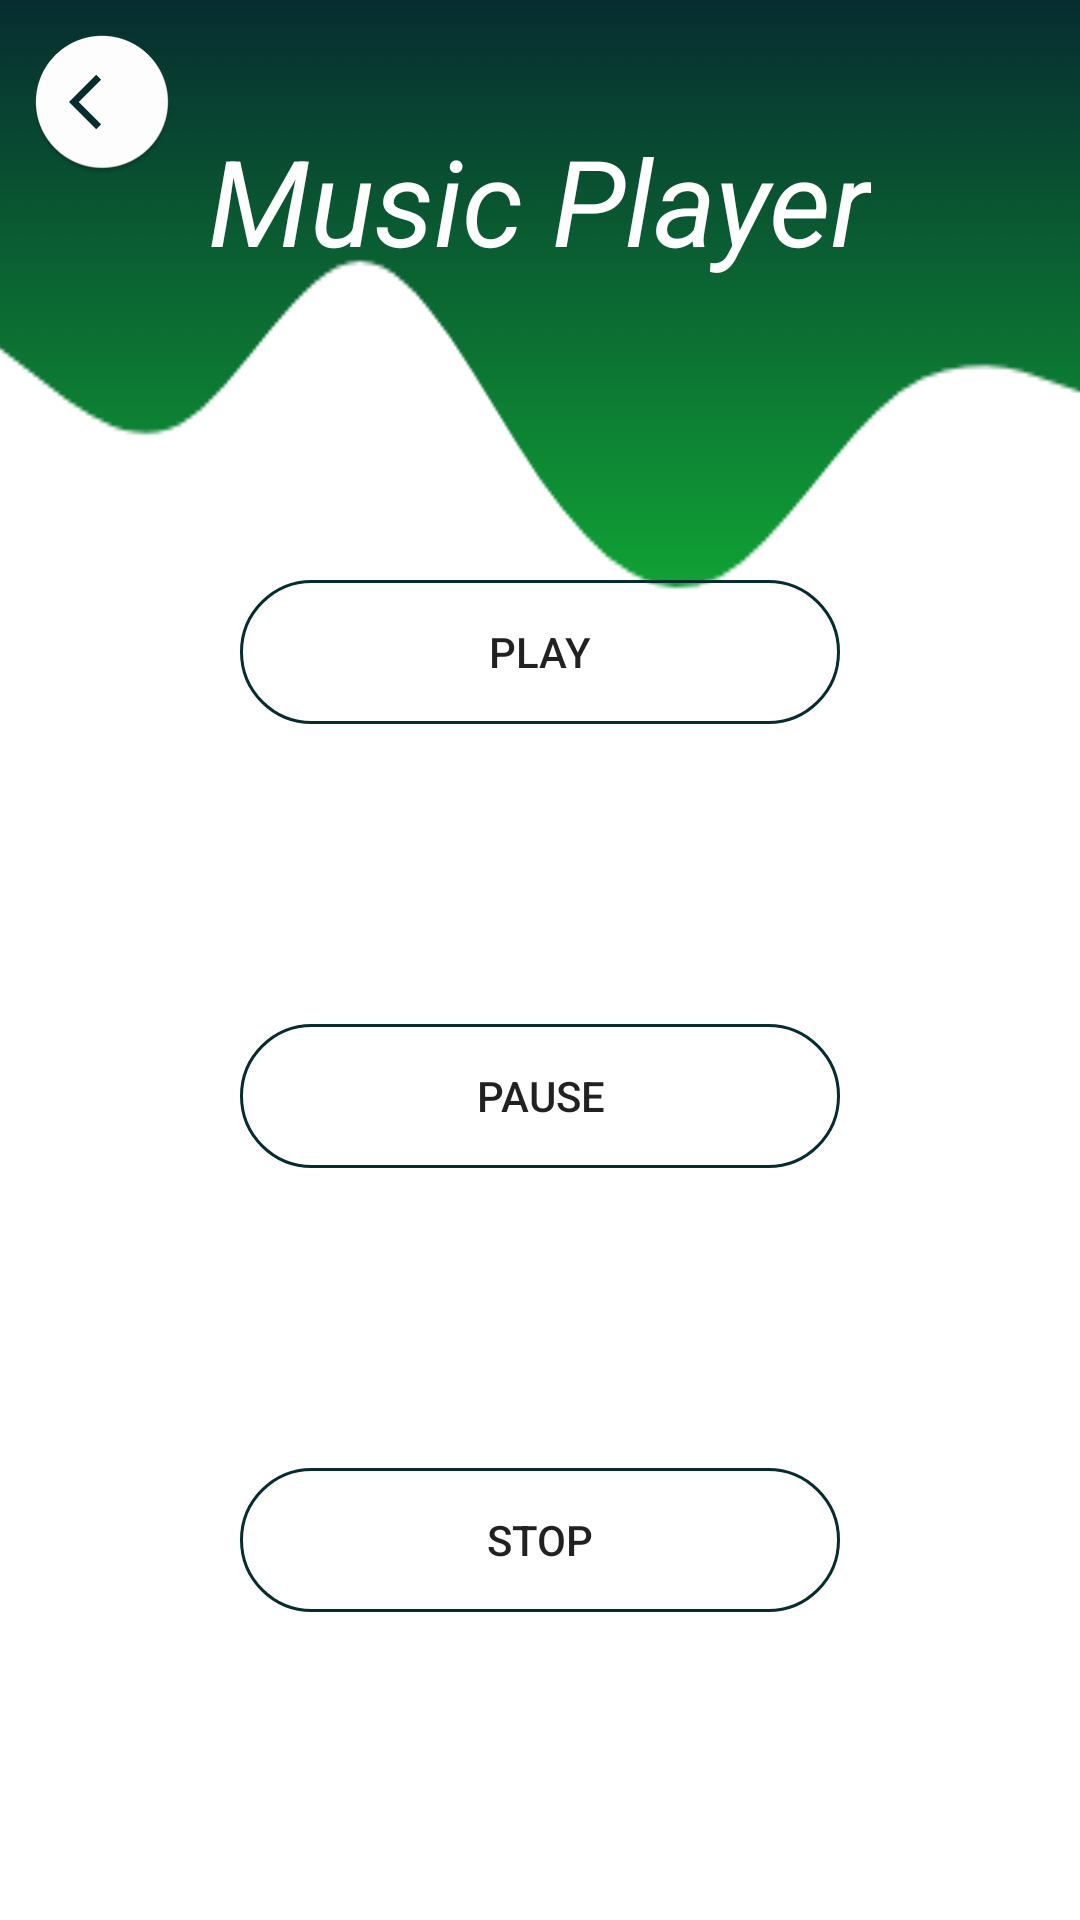

Named icons in this screenshot (1080w x 1920h) and their bounding boxes, box=[x1, y1, x2, y2]:
back: box=[35, 35, 169, 168]
